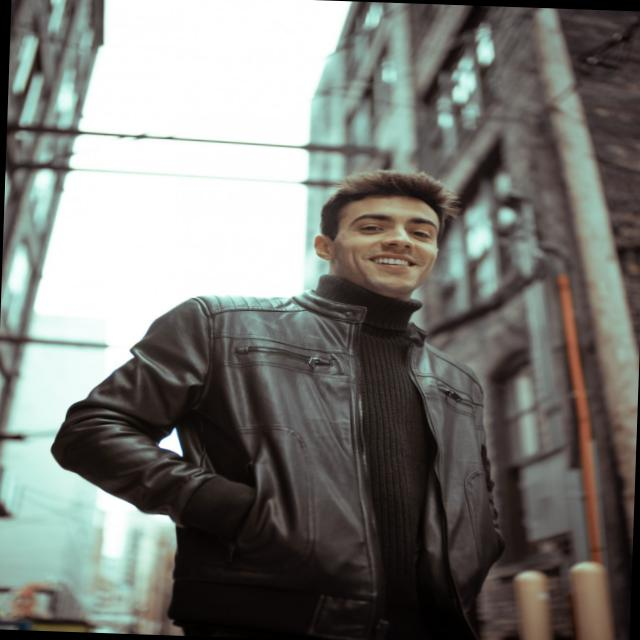Jacket: (36, 263, 560, 639)
